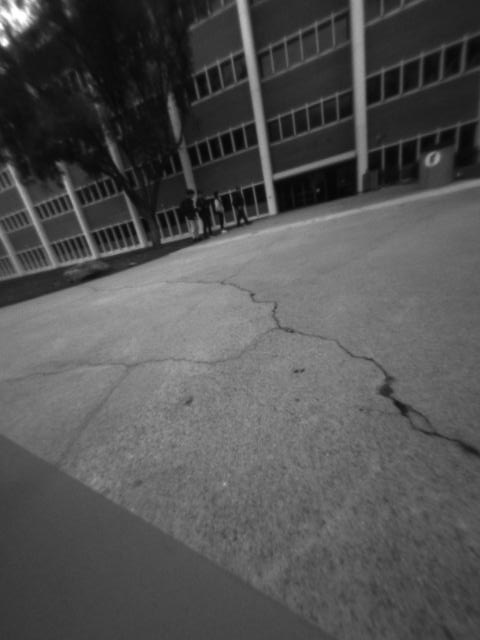trashcan: (417, 140, 458, 192)
